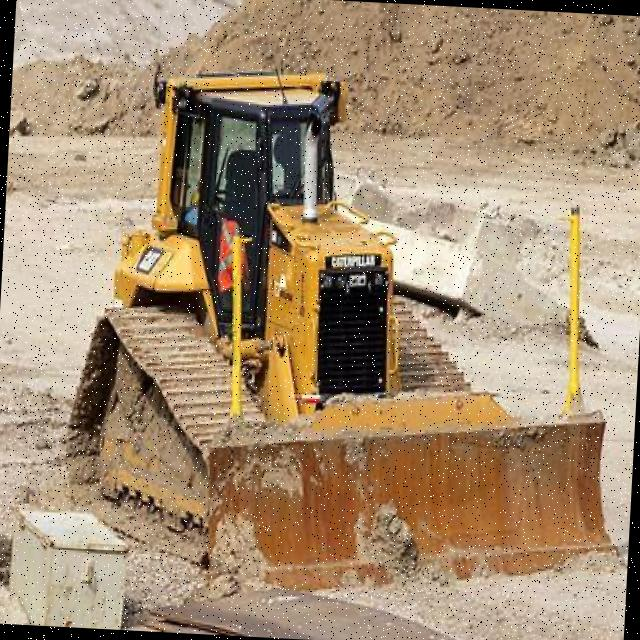Bulldozer: (37, 29, 639, 625)
